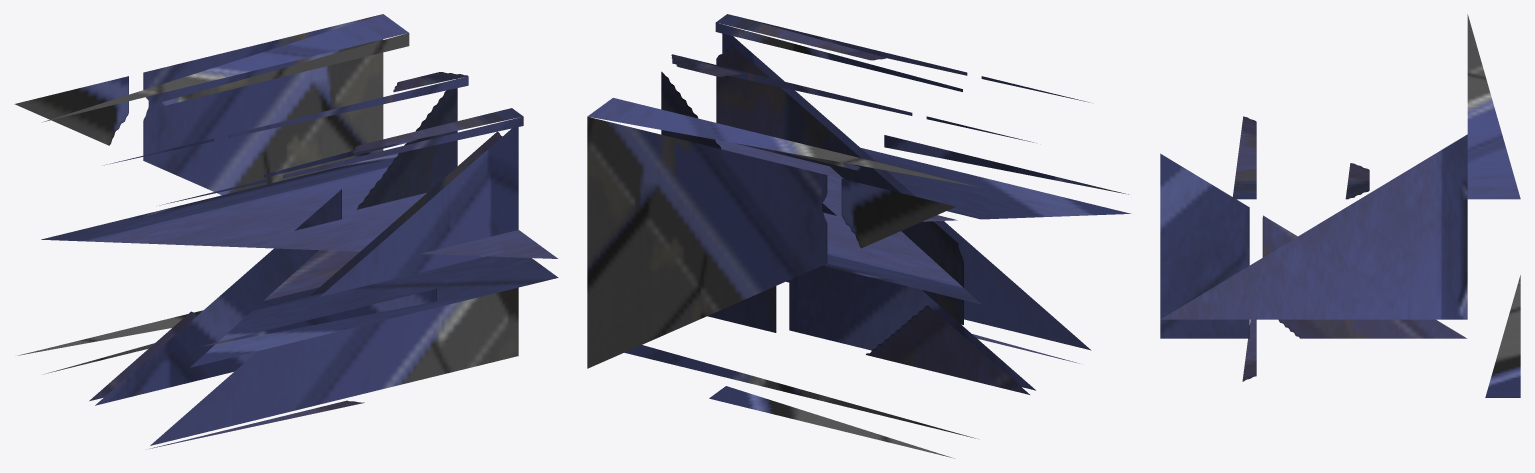
The picture shows the model from 3 angles, left to right: view 1: azimuth 30°, elevation 25°; view 2: azimuth 150°, elevation 25°; view 3: azimuth 270°, elevation 25°; orthographic projection. The views are drawn at different scales.
Bounding box in the file's own units: 1.24 × 0.8101 × 1.02.
